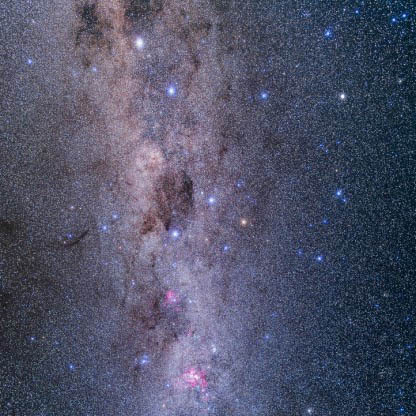Southern Cross: (231, 210, 252, 233), (200, 193, 222, 212), (165, 226, 182, 245), (218, 241, 234, 258)
